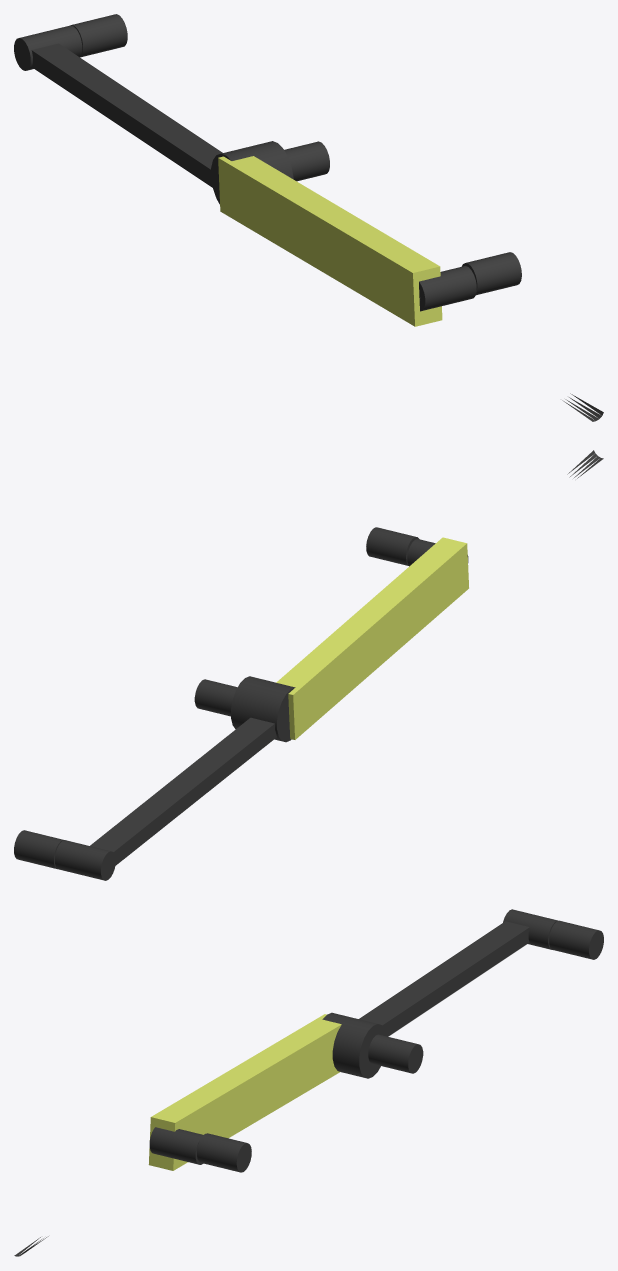
File: Loc_p2.fbx
3 renders of one model, top to bottom at view 1: azimuth 30°, elevation 25°; view 2: azimuth 150°, elevation 25°; view 3: azimuth 330°, elevation 25°, orthographic. The views are drawn at different scales.
Parts seen in each view (by area): view 1: Box047.006; view 2: Box047.006; view 3: Box047.006.
Boxes of the visible parts, x1,y1,x2,y2 form: Box047.006: (14,14,603,421); Box047.006: (14,450,603,880); Box047.006: (14,909,603,1256).
Size of the model in its own units: 223 by 183 by 2146.
